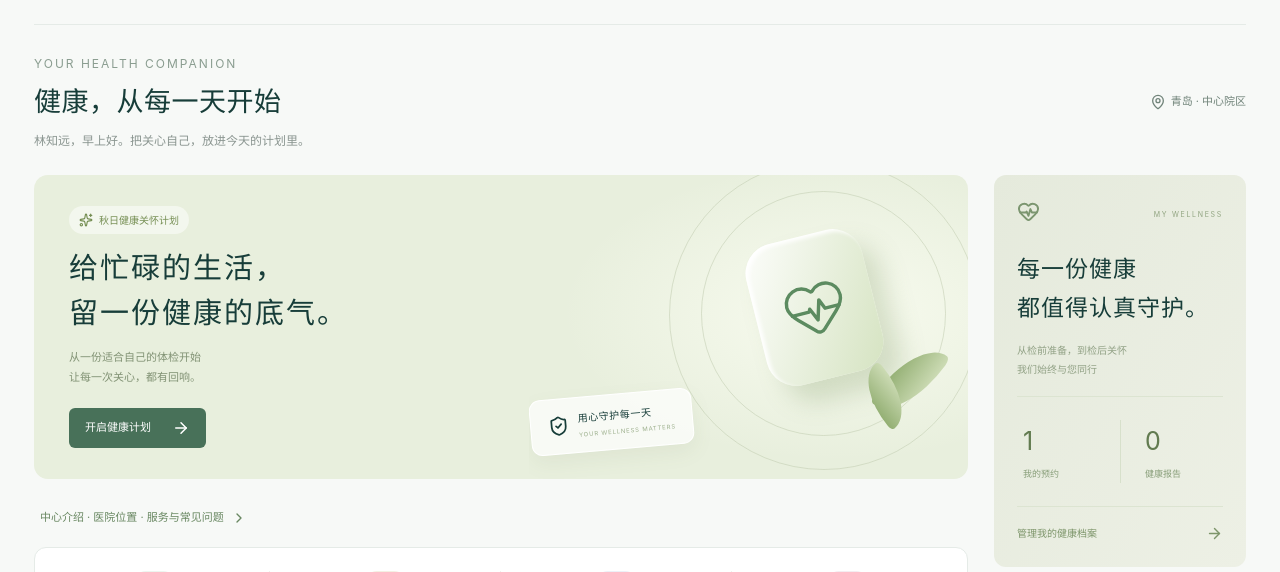
Test: independent QA: selected star-clause interactions and regression cases › T0025 compares selected packages and exposes differing project meanings
Click the button "开启健康计划": (138, 428) [69,408,206,448]
(page scrolled)
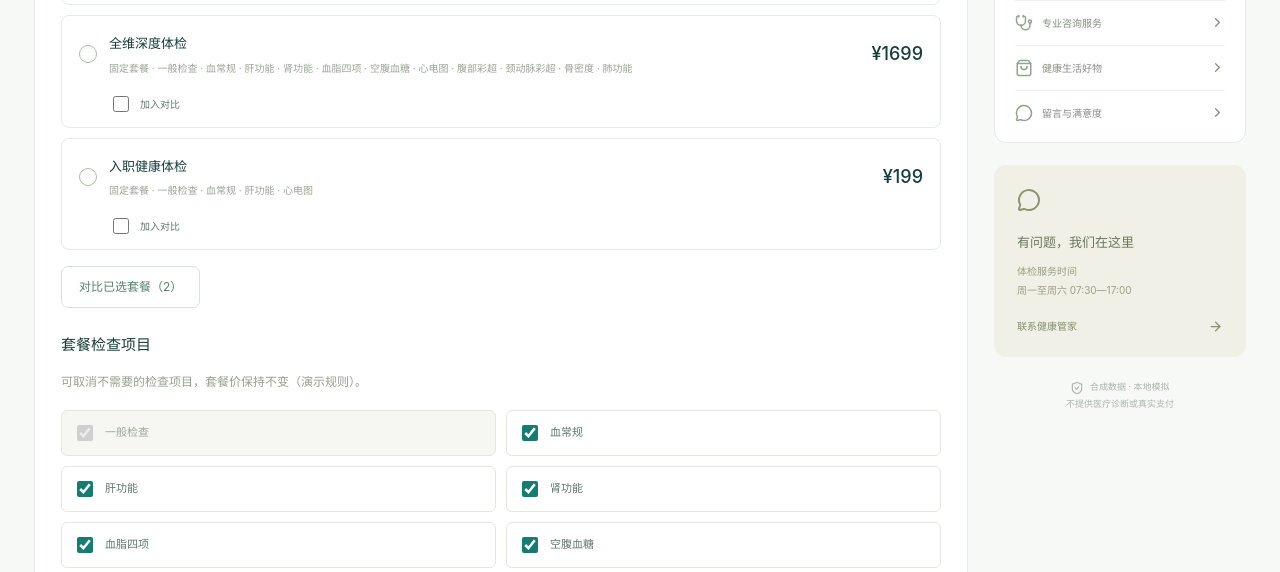
Click the button "对比已选套餐（2）": (131, 287) [61,266,200,308]
(page scrolled)
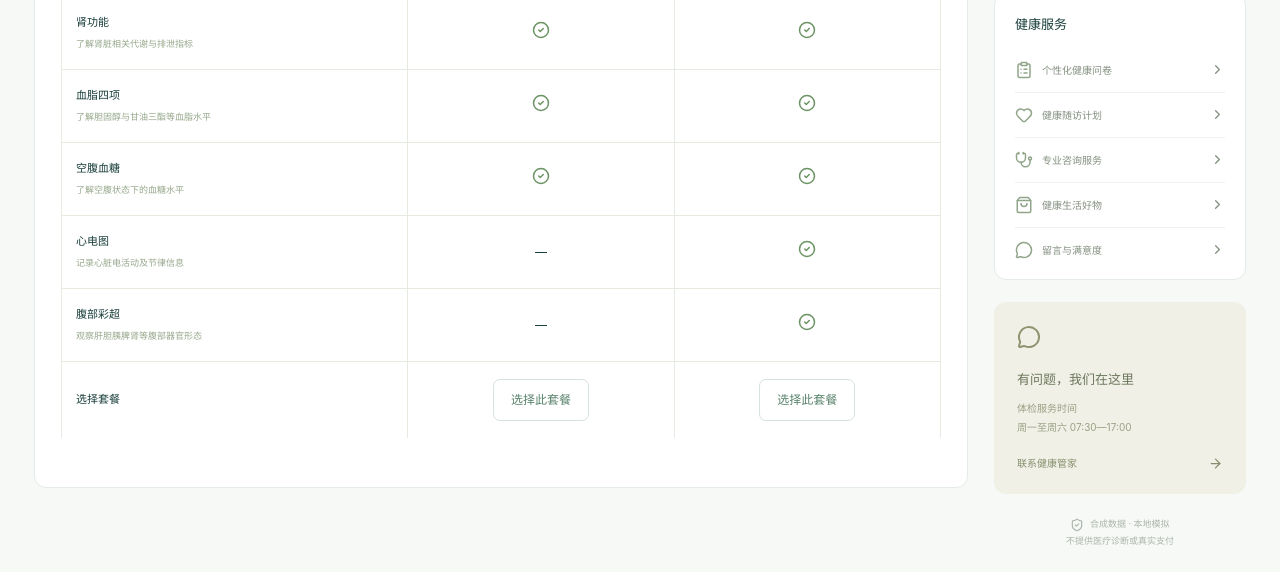
Result: the text "了解空腹状态下的血糖水平" is shown at [76,184,184,196]
Result: the text "记录心脏电活动及节律信息" is shown at [76,257,184,268]
